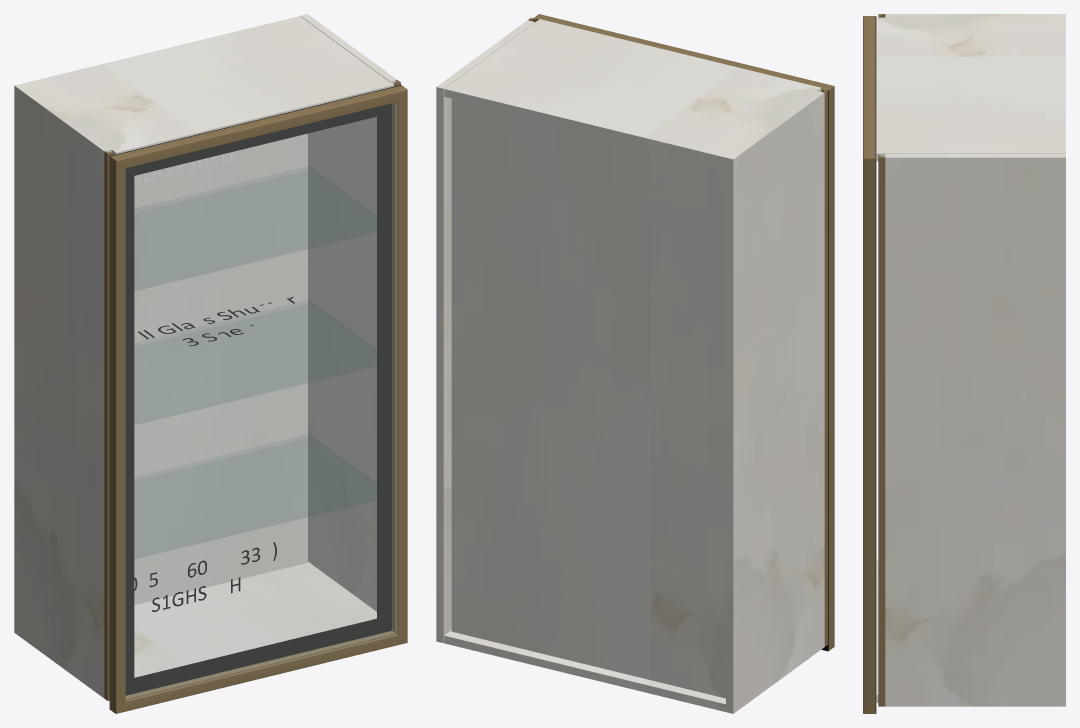
Rendered from WC3GS1GHS_RH (H1085xW600xD336).glb.
3 views of the same model, side by side, from view 1: azimuth 30°, elevation 25°; view 2: azimuth 150°, elevation 25°; view 3: azimuth 270°, elevation 25° (orthographic).
Size of what is drawn, in the model's own units: 0.6 by 1.09 by 0.358.
Materials: 7 (1 with a texture image).
